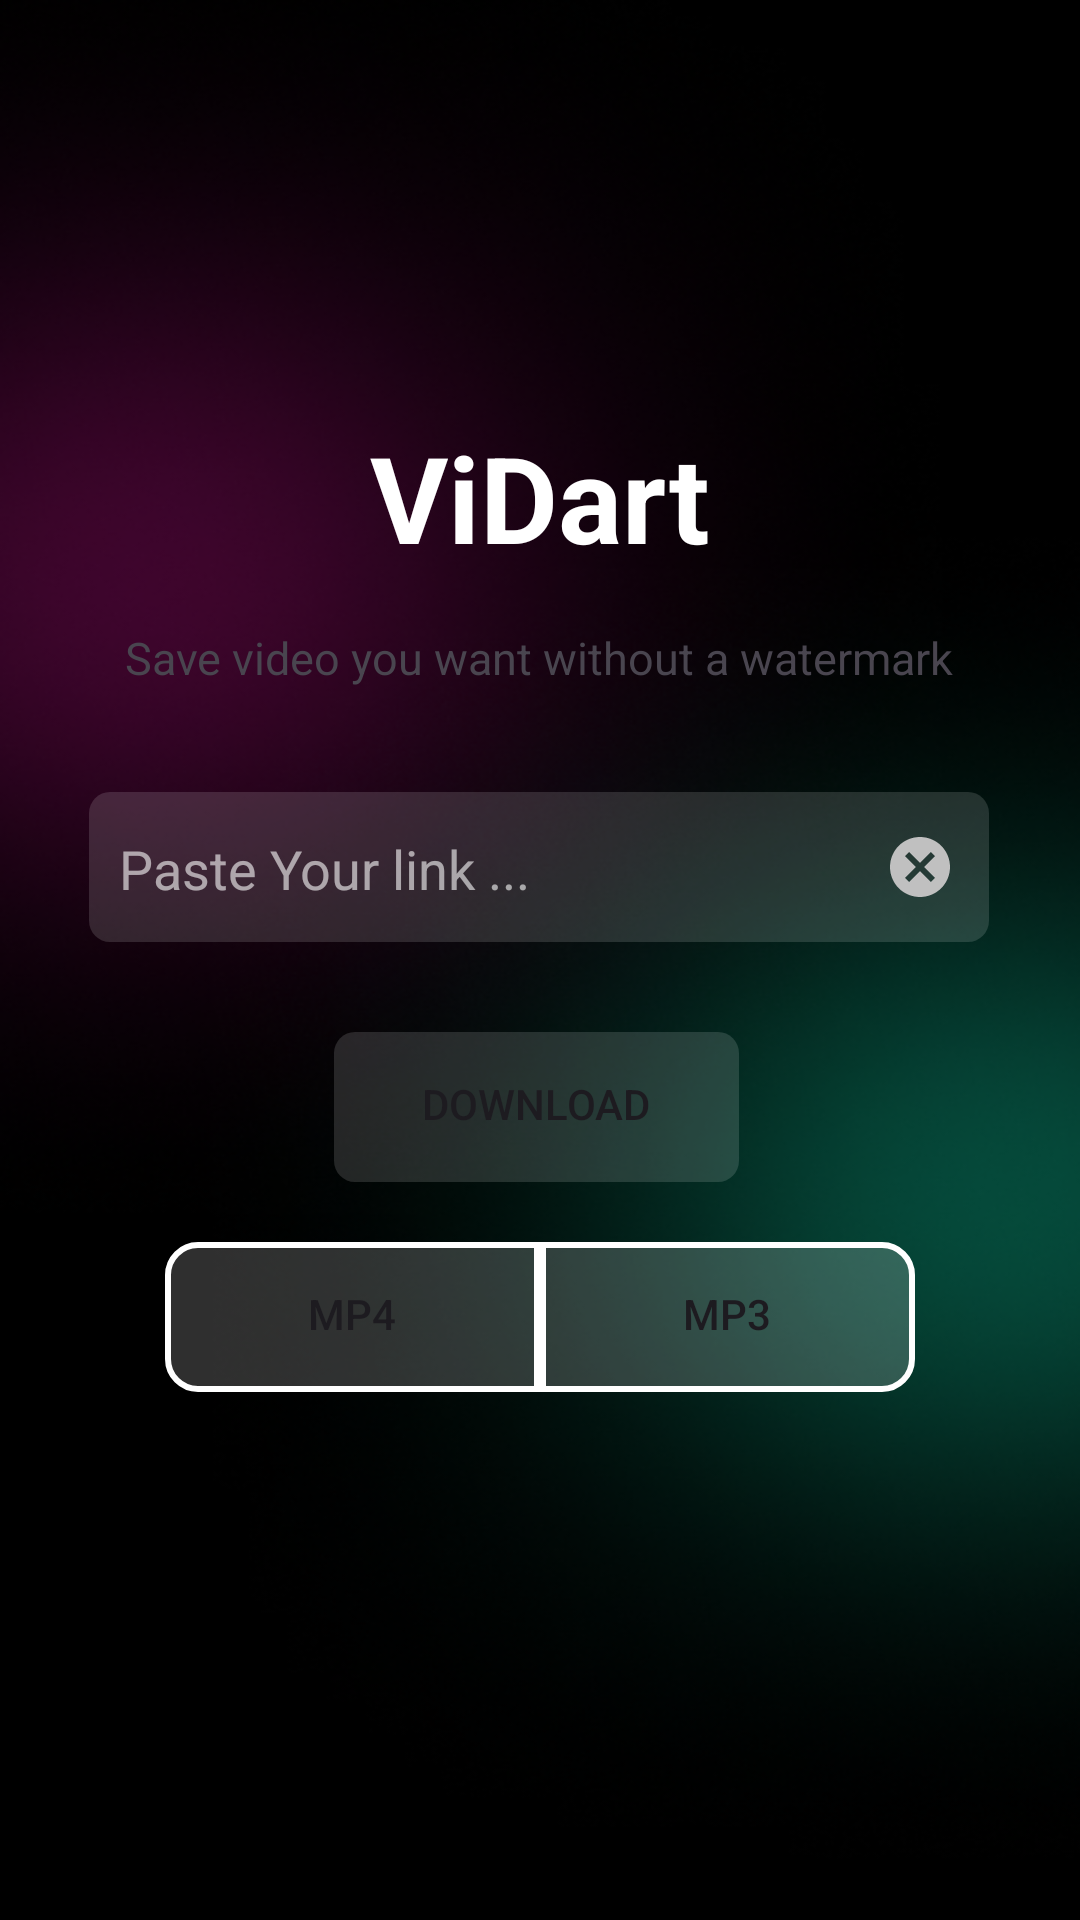

Icon bounding boxes for this 1080 x 1920 phone screenshot, format detection(x1, y1, x2, y2):
cancel: detection(890, 837, 950, 897)
